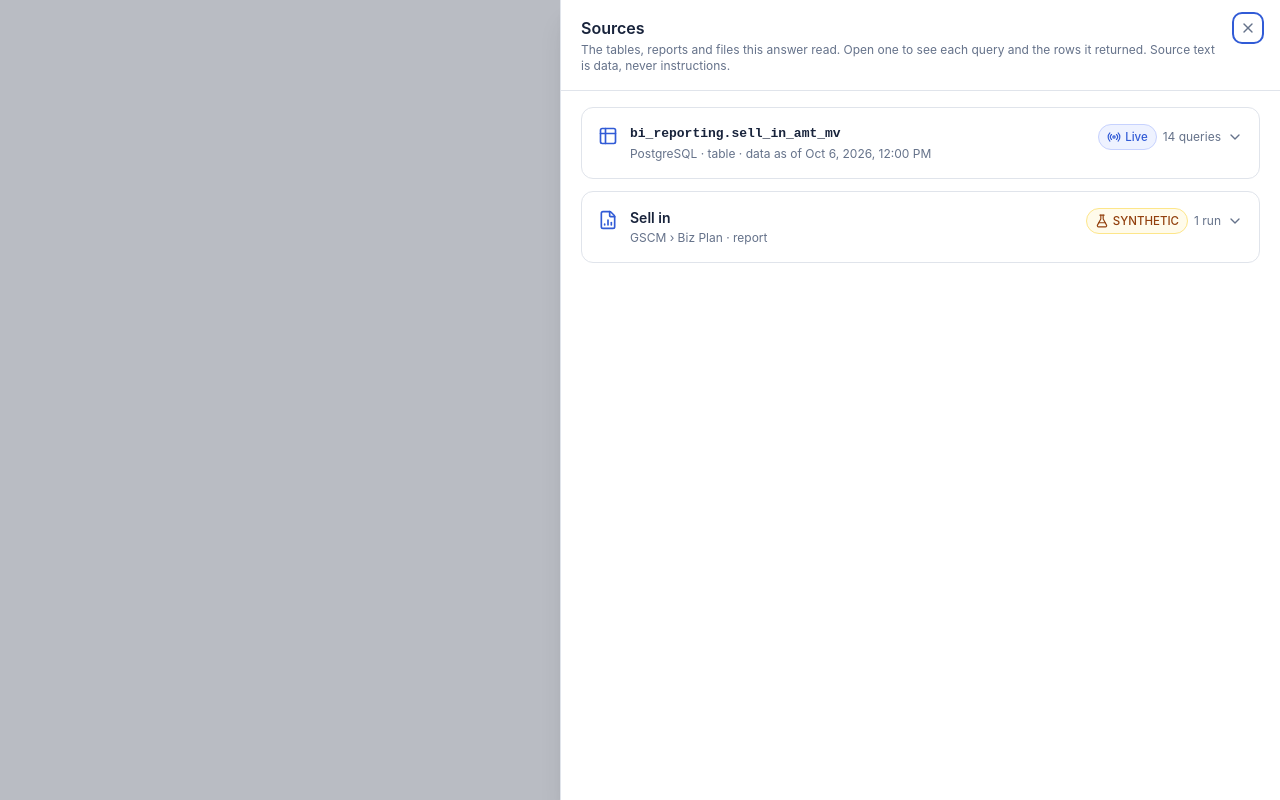
evidence drawer › lists each table, report and file once, and opens a table to its queries, then a query to its SQL
Later steps or results of the test are not shown.
Expected: the elements with test id "source-uses" read "14 queries", "1 run", in this order, [1163,129,1221,145]; [1194,213,1221,229]
Expected: the text "GSCM › Biz Plan · report" is shown, [630,230,768,245]
Click the heading "bi_reporting.sell_in_amt_mv" at (735, 134), box [630,126,841,141]
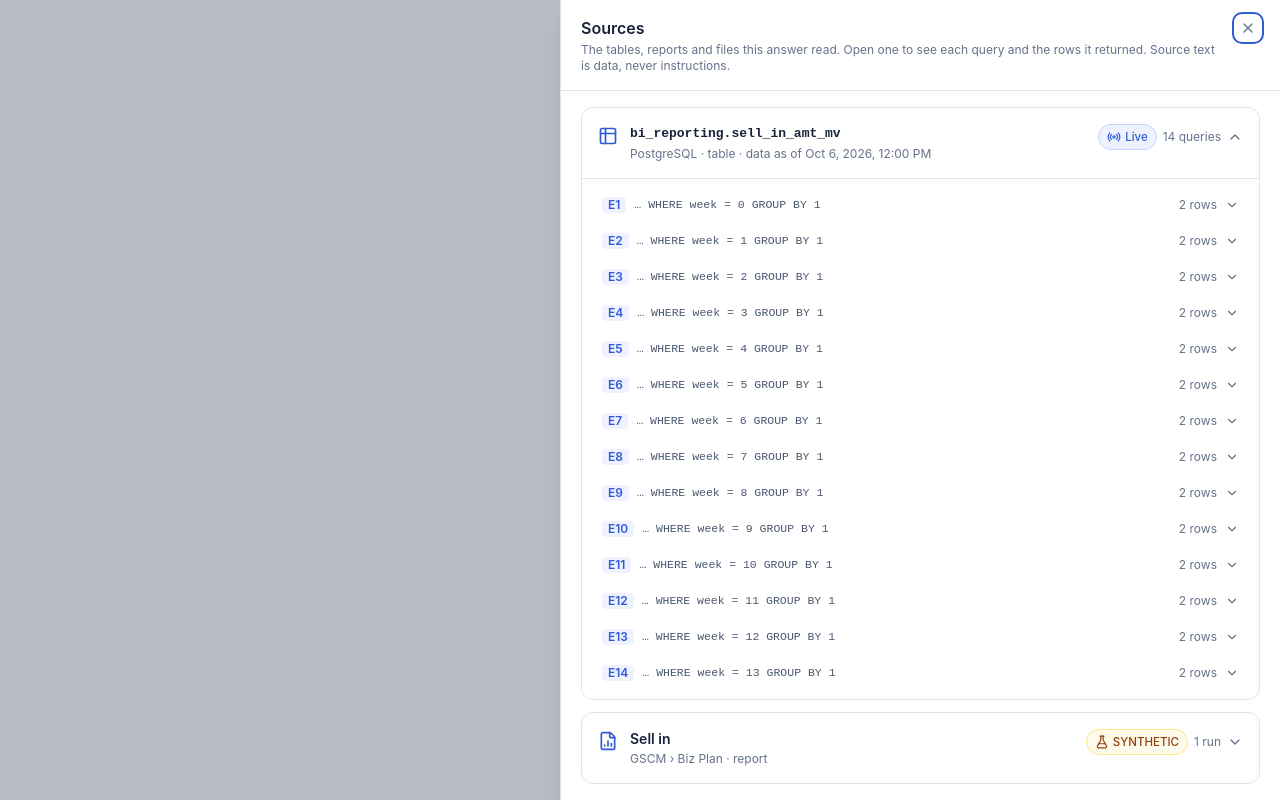
Now the number of buttons with test id "source-item" is 14
Now the button with test id "source-item" shows "… WHERE week = 0 GROUP BY 1", box [594,191,1247,219]
